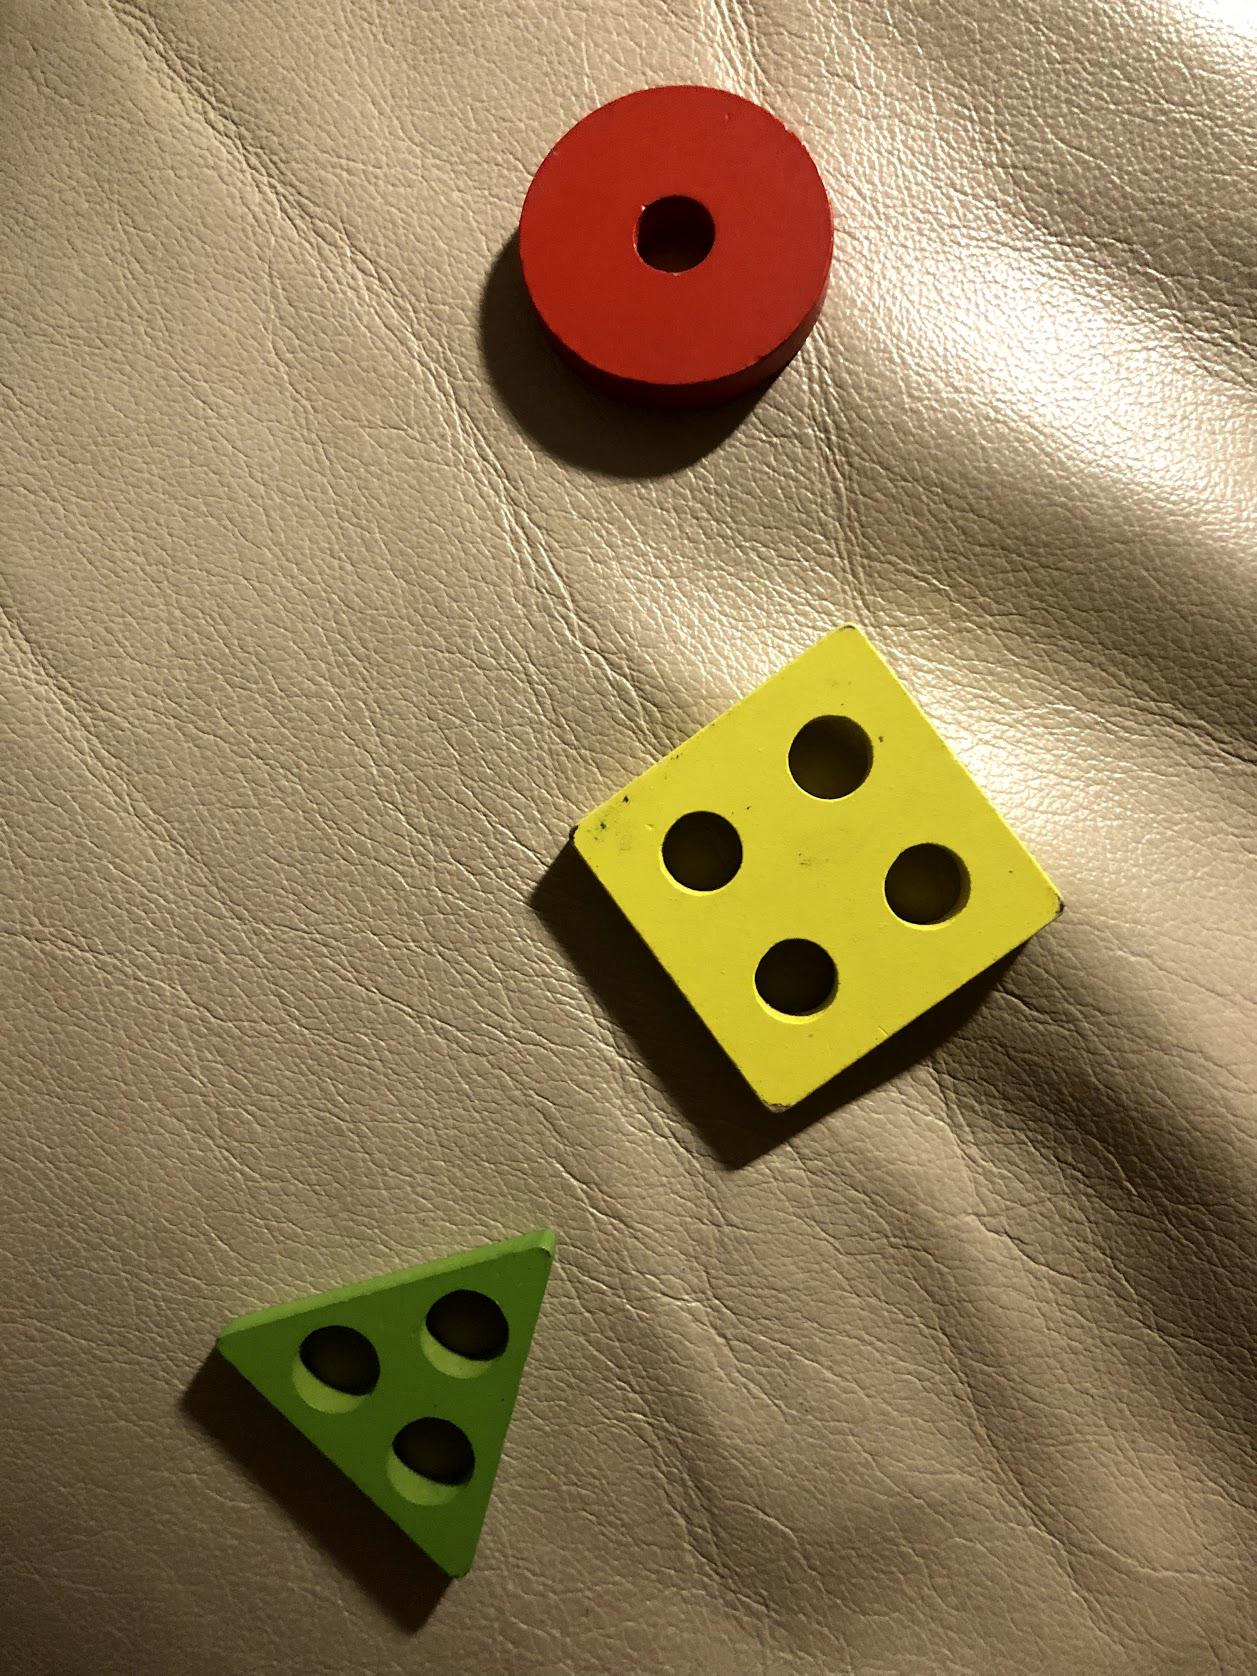Circle: (511, 81, 832, 388)
Square: (568, 620, 1077, 1123)
Triangle: (210, 1233, 561, 1592)
